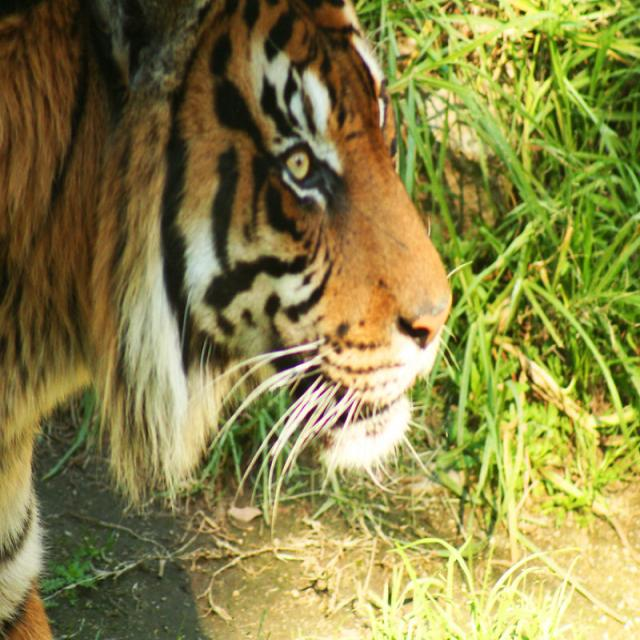Tiger: (0, 0, 454, 635)
